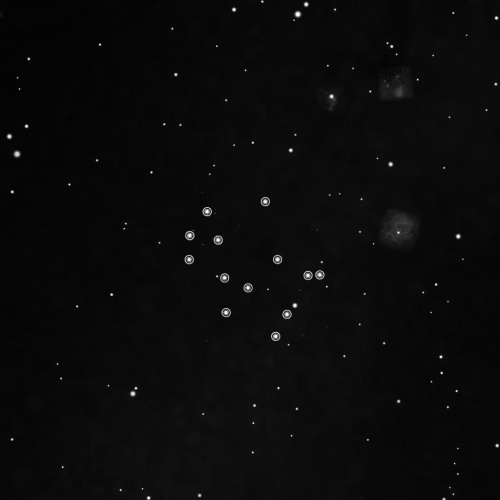gemini: (180, 194, 327, 344)
